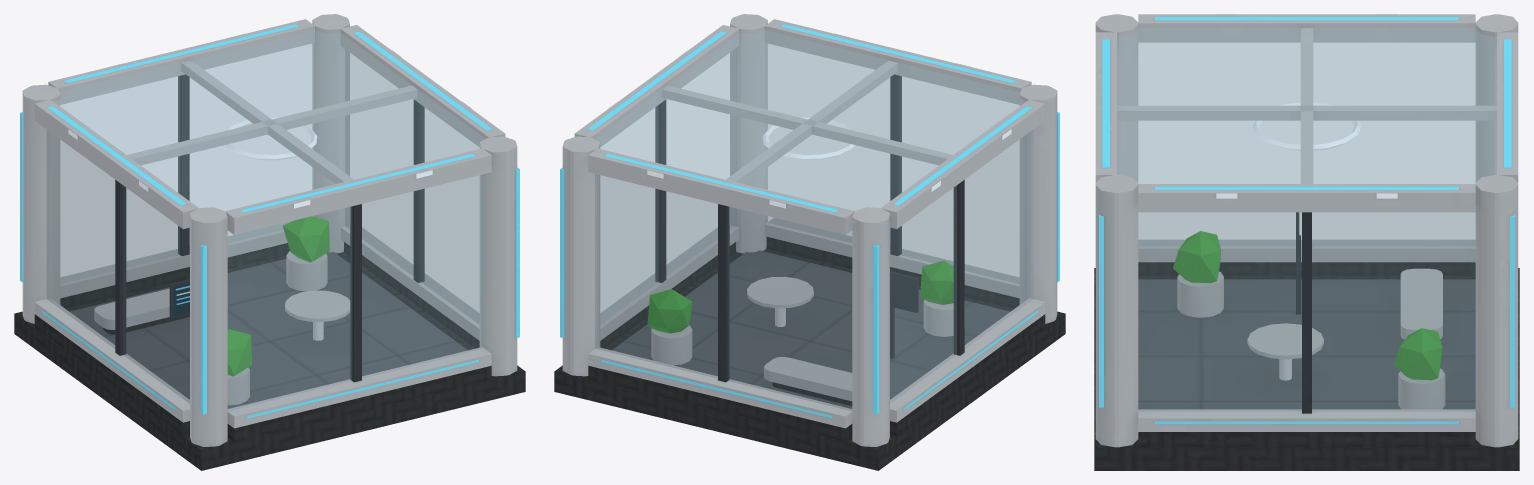
The model's file is hull_enterprise_hull_glass_closed.glb.
3 renders of one model, left to right at view 1: azimuth 30°, elevation 25°; view 2: azimuth 150°, elevation 25°; view 3: azimuth 270°, elevation 25°, orthographic. The views are drawn at different scales.
Visible parts, largest first — view 1: te_hull_enterprise_hull_glass_closed; view 2: te_hull_enterprise_hull_glass_closed; view 3: te_hull_enterprise_hull_glass_closed.
Part boxes in pixels (x1,y1,x2,y2): te_hull_enterprise_hull_glass_closed: (14, 14, 525, 470); te_hull_enterprise_hull_glass_closed: (554, 14, 1065, 470); te_hull_enterprise_hull_glass_closed: (1094, 14, 1519, 470).
Size of the model in its own units: 1 by 0.7206 by 1.
Materials: 2 (1 with a texture image).
